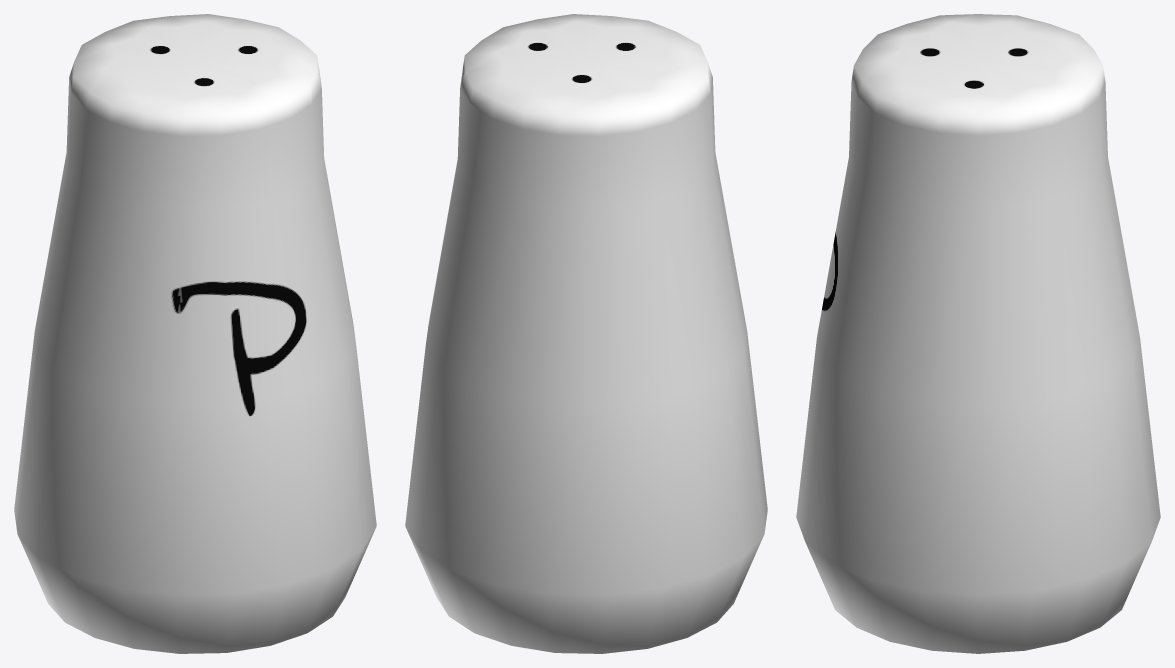
File: Pepper.fbx
3 renders of one model, left to right at view 1: azimuth 30°, elevation 25°; view 2: azimuth 150°, elevation 25°; view 3: azimuth 270°, elevation 25°, orthographic.
Parts seen in each view (by area): view 1: Salt; view 2: Salt; view 3: Salt.
Boxes of the visible parts, x1,y1,x2,y2 form: Salt: [14, 14, 376, 653]; Salt: [405, 14, 767, 653]; Salt: [796, 14, 1160, 653].
Size of the model in its own units: 3.86 by 6.41 by 3.85.
